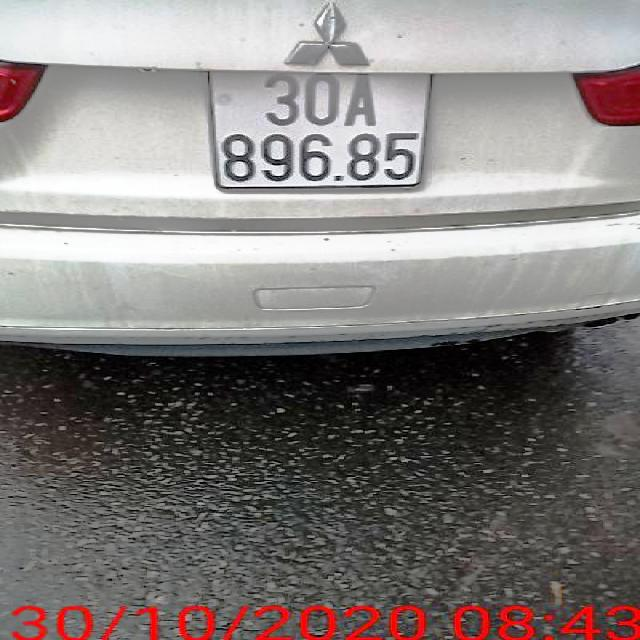license_plate: (213, 73, 439, 190)
